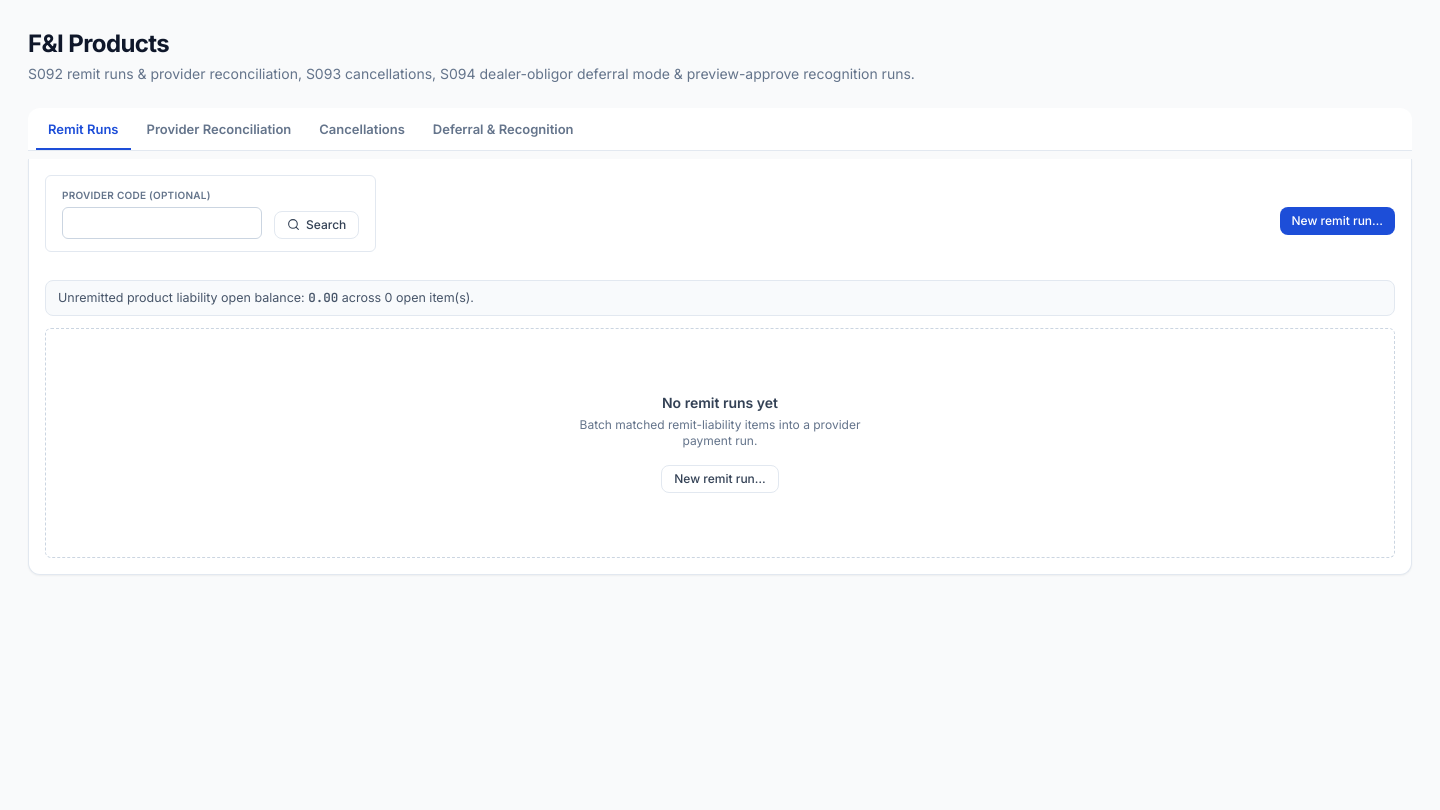
Test: FniProducts — Deferral bookings + schedule-authoritative tie-out › shows the empty state when there are no deferral bookings
Step 1. Click the button with test id "fni-products-tab-deferral" → {"x": 503, "y": 131}, box [421, 112, 586, 150]
(page scrolled)
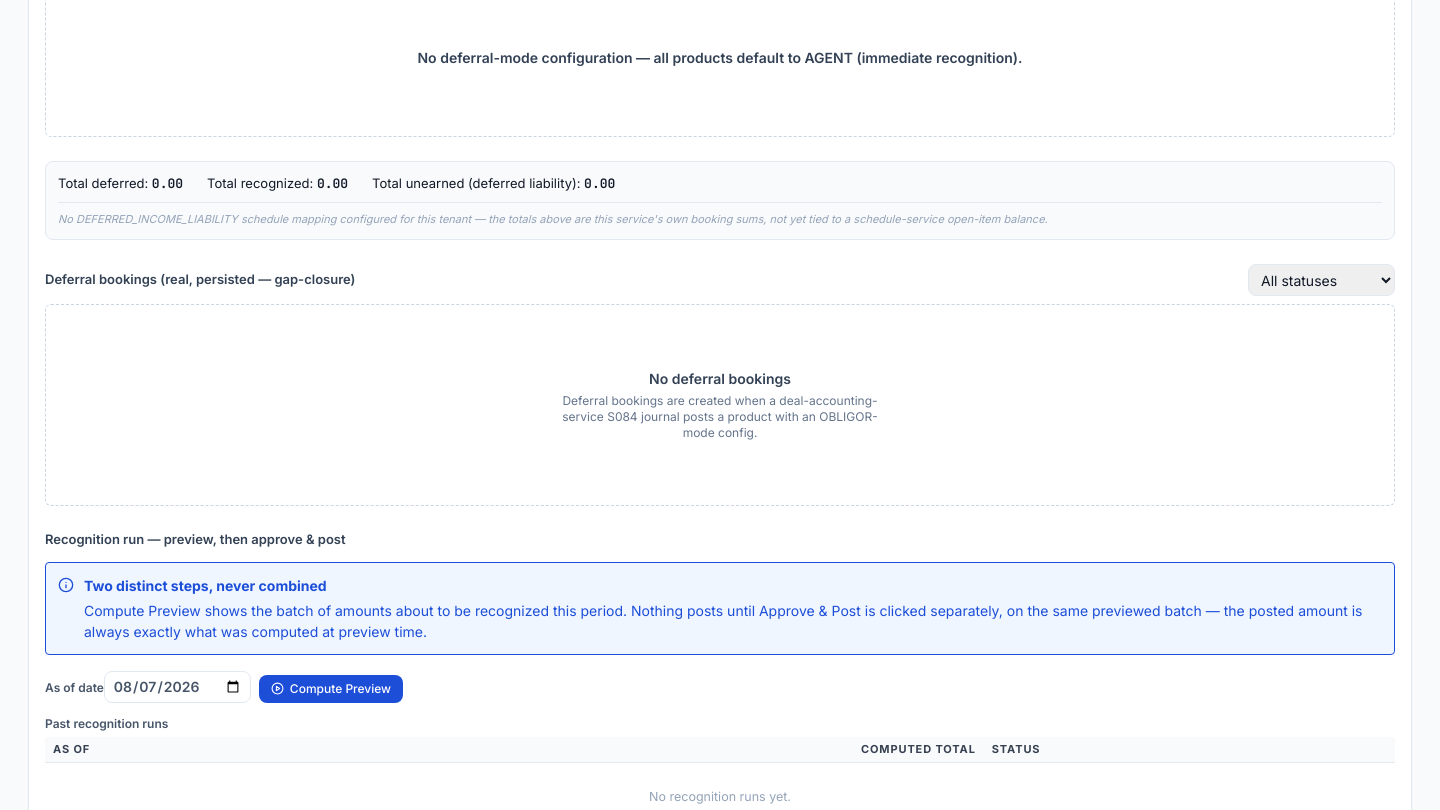
Now the element with test id "deferral-bookings-empty" is shown, box [45, 304, 1395, 506]
